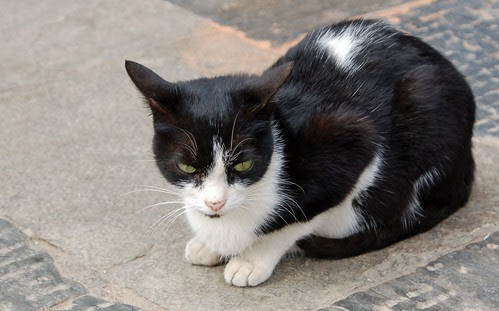cat: (112, 12, 485, 293)
